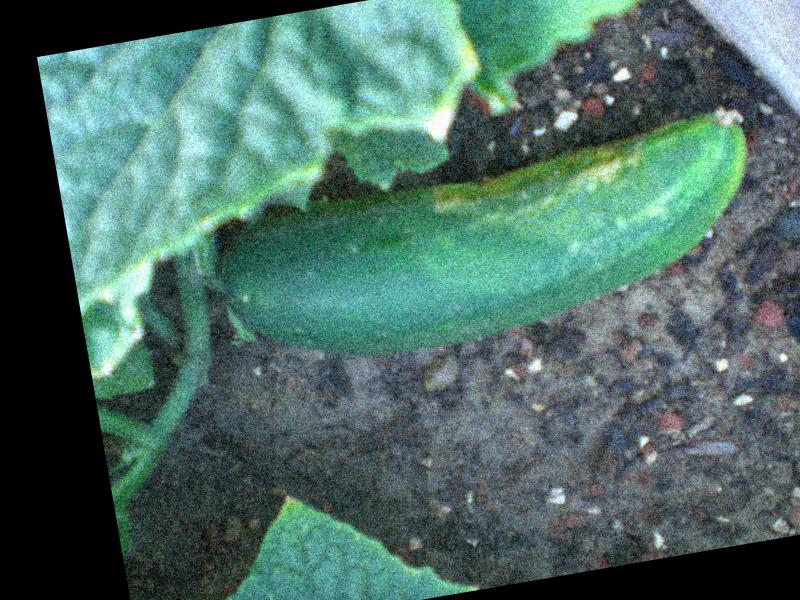Cucumber: (209, 104, 771, 378)
